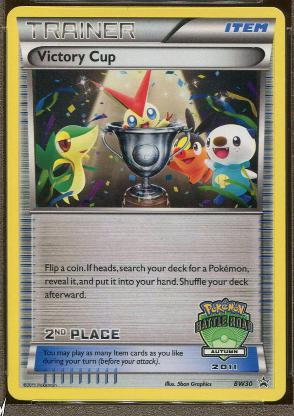Card: (1, 0, 290, 405)
